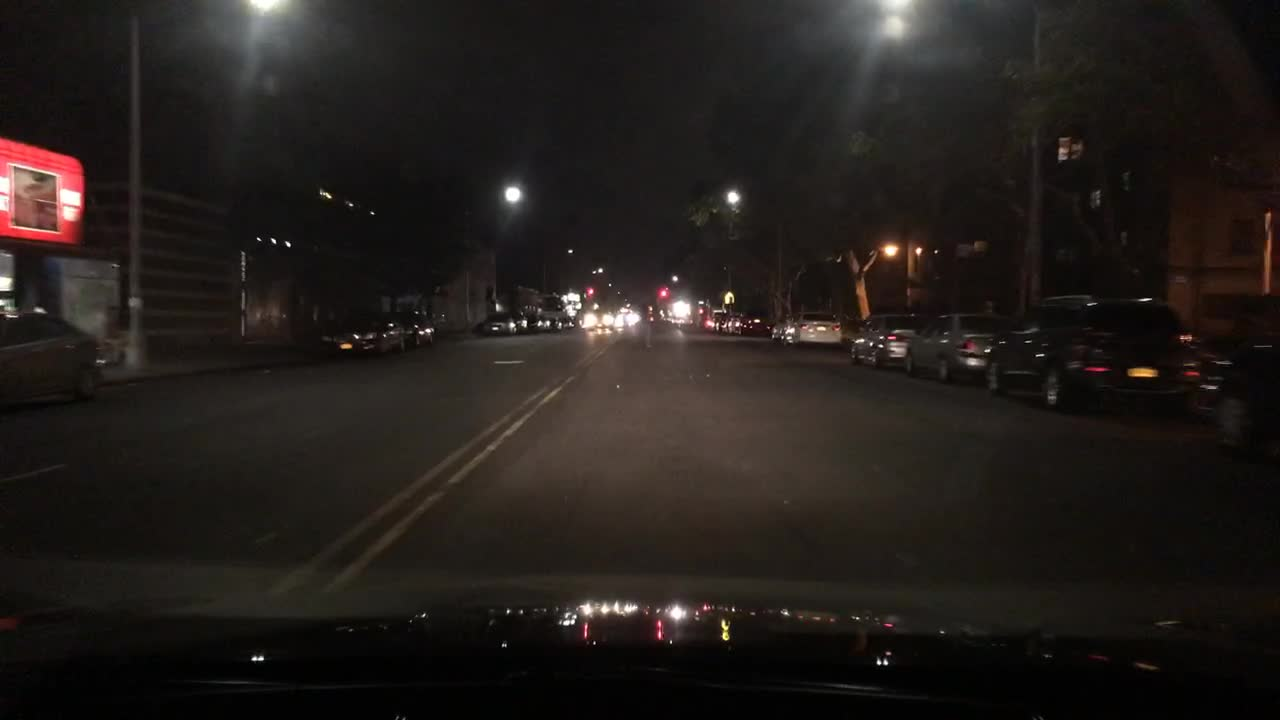car: (982, 290, 1204, 411), (0, 299, 101, 404), (1198, 345, 1279, 457), (902, 308, 1016, 384), (846, 308, 931, 369), (316, 308, 409, 359), (779, 312, 845, 347), (396, 305, 433, 343), (473, 311, 518, 334), (580, 307, 613, 329), (733, 316, 769, 334), (711, 308, 733, 332), (698, 307, 719, 330), (614, 308, 638, 328), (509, 312, 531, 332), (721, 312, 740, 334), (532, 311, 554, 329), (558, 314, 572, 329)
traffic light: (658, 284, 666, 297), (584, 284, 594, 294)
